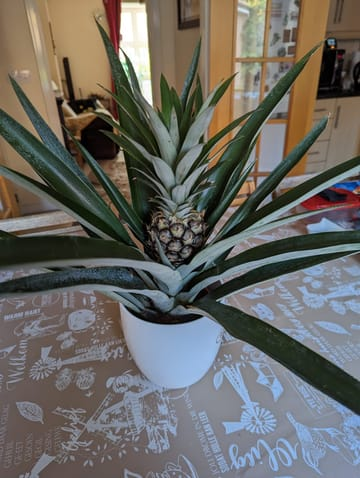pineapple: (89, 107, 242, 305)
